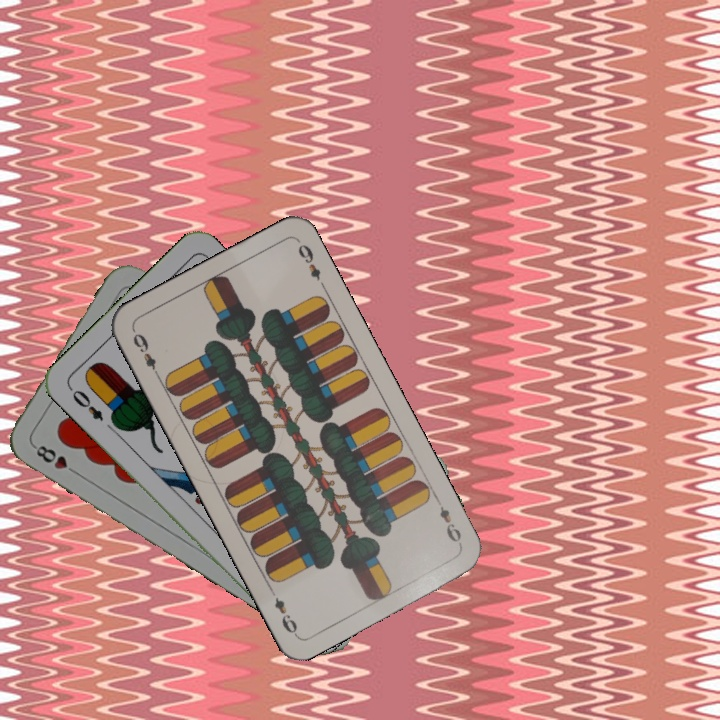E9: (128, 326, 163, 381), (432, 495, 465, 549)
EO: (65, 383, 106, 424)
H8: (29, 440, 82, 478)
